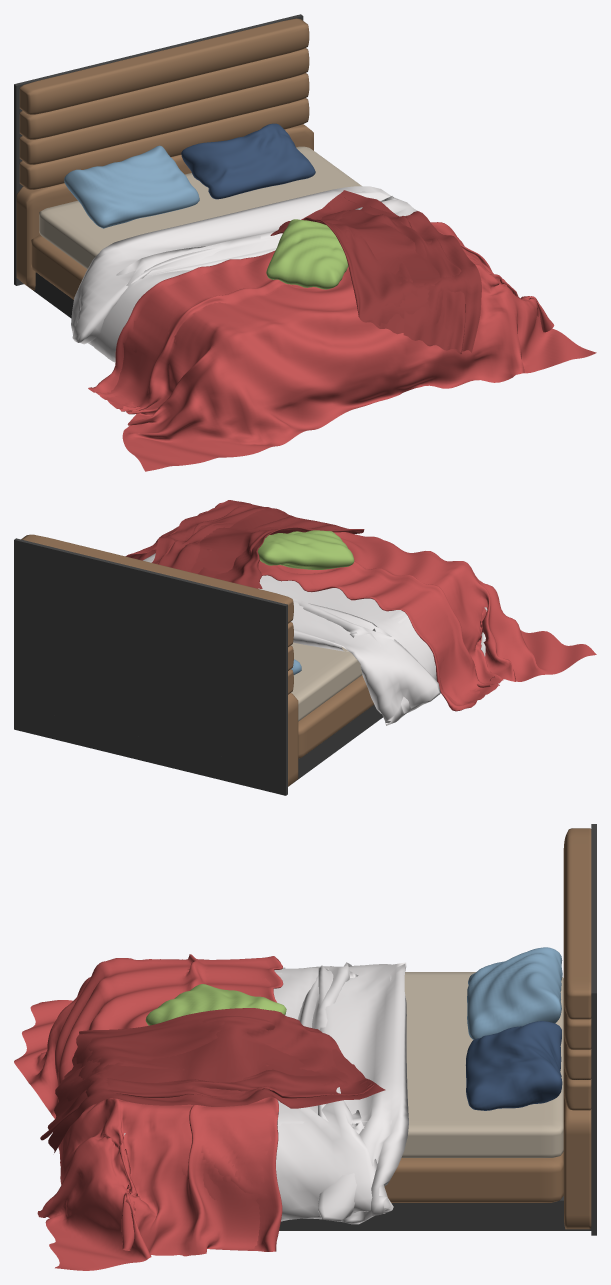
The model's file is bed.fbx.
3 views of the same model, one above another, from view 1: azimuth 30°, elevation 25°; view 2: azimuth 150°, elevation 25°; view 3: azimuth 270°, elevation 25° (orthographic). The views are drawn at different scales.
Parts seen in each view (by area): view 1: Plane001, back, Line005, Box020, body001, pillow-2, pillow-1, Box021, body, Rectangle027, Rectangle028; view 2: Rectangle027, Plane001, Box020, Line005, Rectangle028, back, body001, Box021, body; view 3: Plane001, Box020, Line005, body001, back, body, pillow-1, pillow-2, Rectangle028, Box021, Rectangle027.
Boxes of the visible parts, x1,y1,x2,y2 form: Plane001: (88,222,596,471); back: (16,18,313,290); Line005: (270,190,481,353); Box020: (71,186,417,362); body001: (39,146,361,269); pillow-2: (64,145,199,228); pillow-1: (181,123,315,199); Box021: (266,219,348,289); body: (31,235,87,299); Rectangle027: (14,14,303,285); Rectangle028: (24,272,73,318); Rectangle027: (14,538,287,795); Plane001: (125,502,596,711); Box020: (143,553,487,725); Line005: (152,500,364,588); Rectangle028: (21,705,382,793); back: (21,534,298,786); body001: (291,642,362,721); Box021: (257,530,354,569); body: (298,675,374,758); Plane001: (14,954,283,1270); Box020: (124,962,408,1224); Line005: (40,1008,385,1152); body001: (401,972,563,1157); back: (563,828,591,1229); body: (384,1152,563,1202); pillow-1: (465,1021,562,1110); pillow-2: (467,947,562,1039); Rectangle028: (279,1196,591,1230); Box021: (145,984,286,1025); Rectangle027: (591,824,596,1235).
Bounding box in the file's own units: 28.7 × 12.13 × 26.19.
